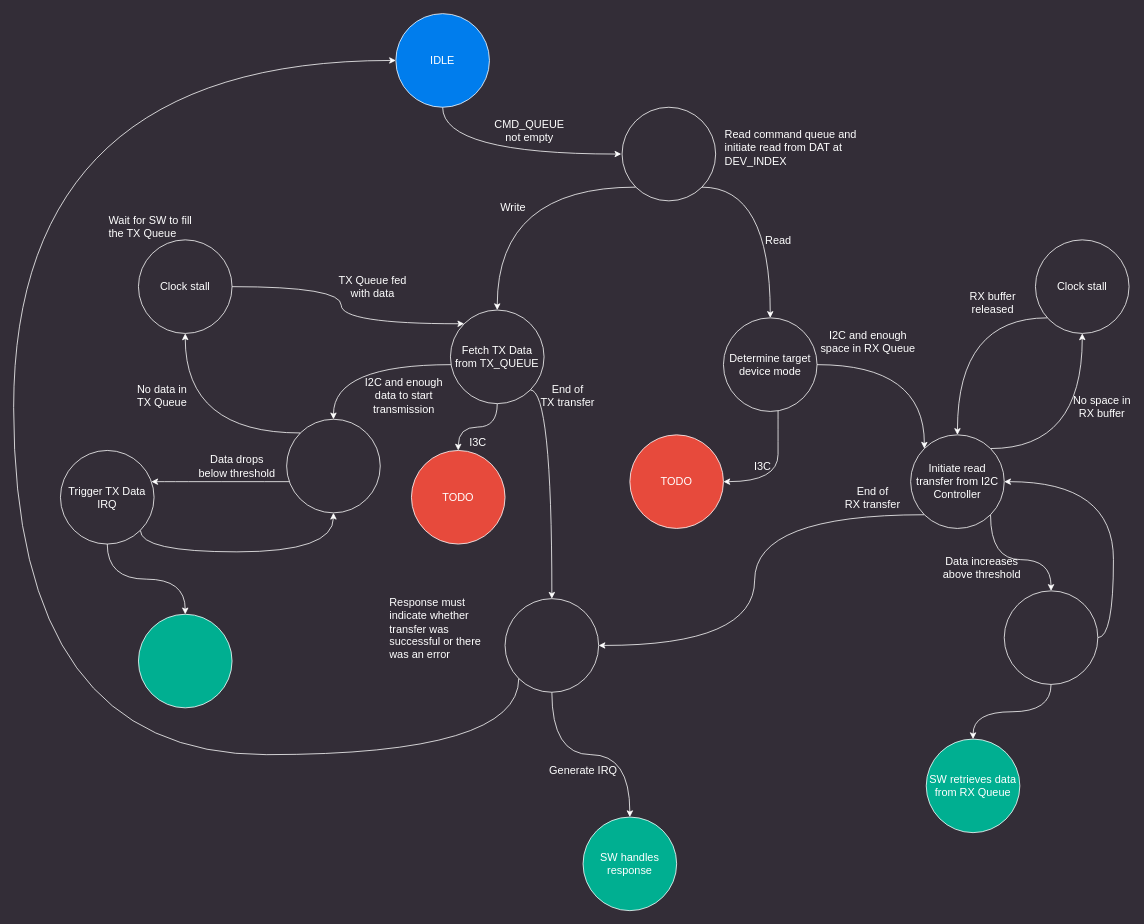
The diagram is 1144 pixels wide and 924 high, and some of its shapes have lost their labels. The centre of each missing label's shape, as x and y in pixels:
Initiate transfer from I2C Controller: point 333,465
READ COMMAND QUEUE: point 668,153
SW writes data to TX Queue: point 185,660
Trigger RX Data IRQ: point 1050,637
Write response to RESP_QUEUE: point 551,645
